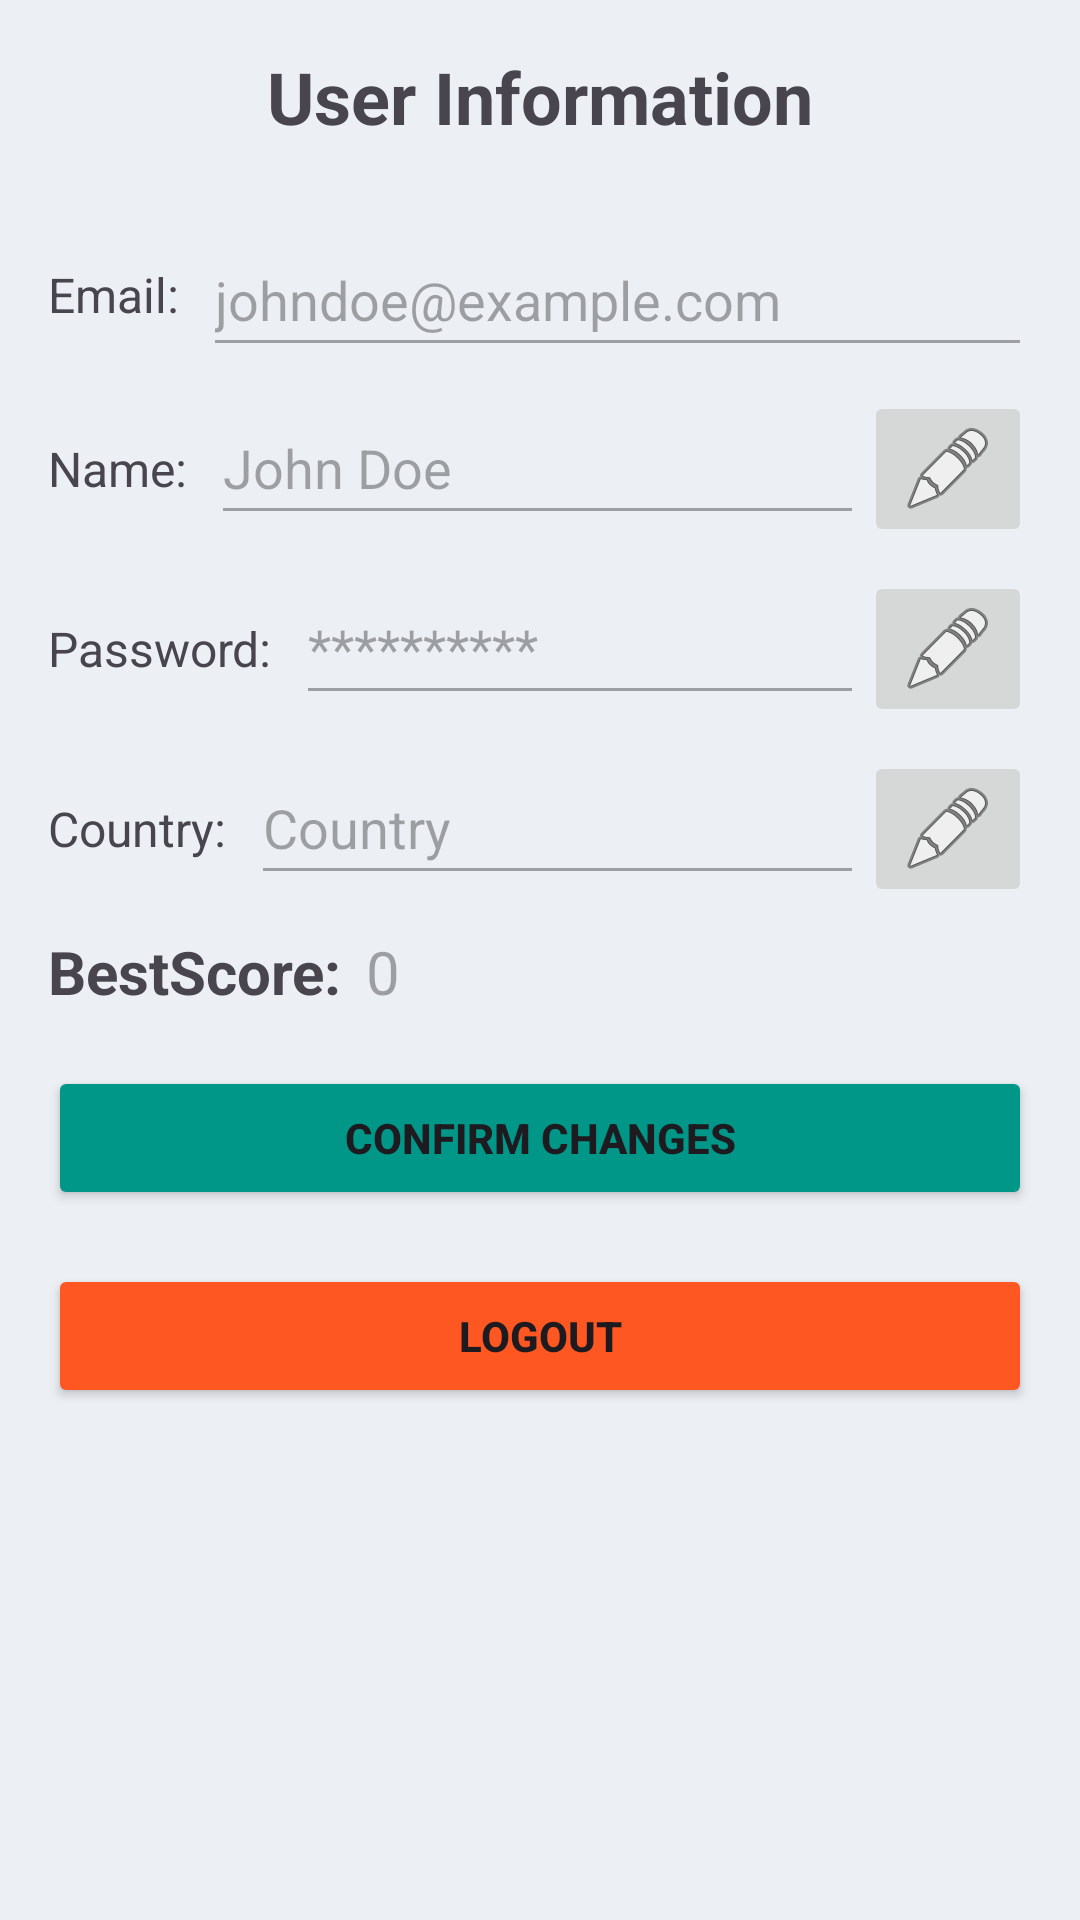

Point at icon controls on the screen. Image size 1080x1920, points as point (x, y).
Edit Name: point (948, 469)
Edit Password: point (948, 649)
